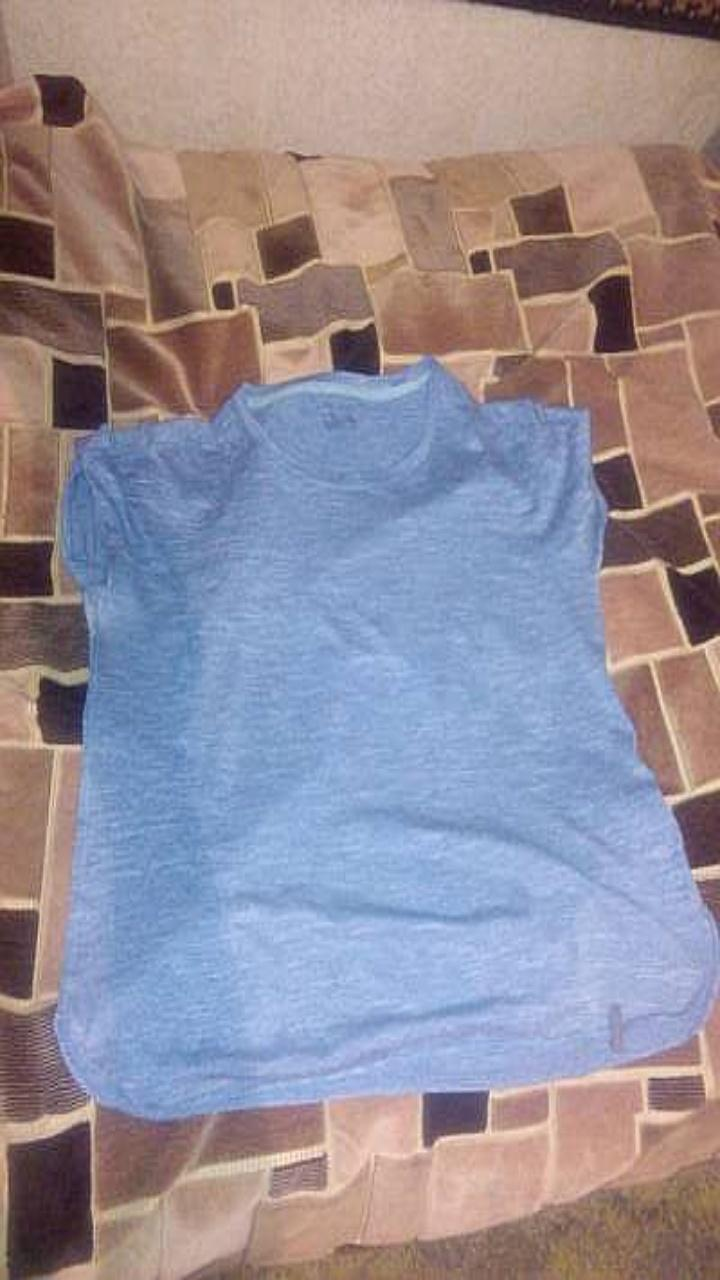T-Shirt: (55, 357, 718, 1117)
